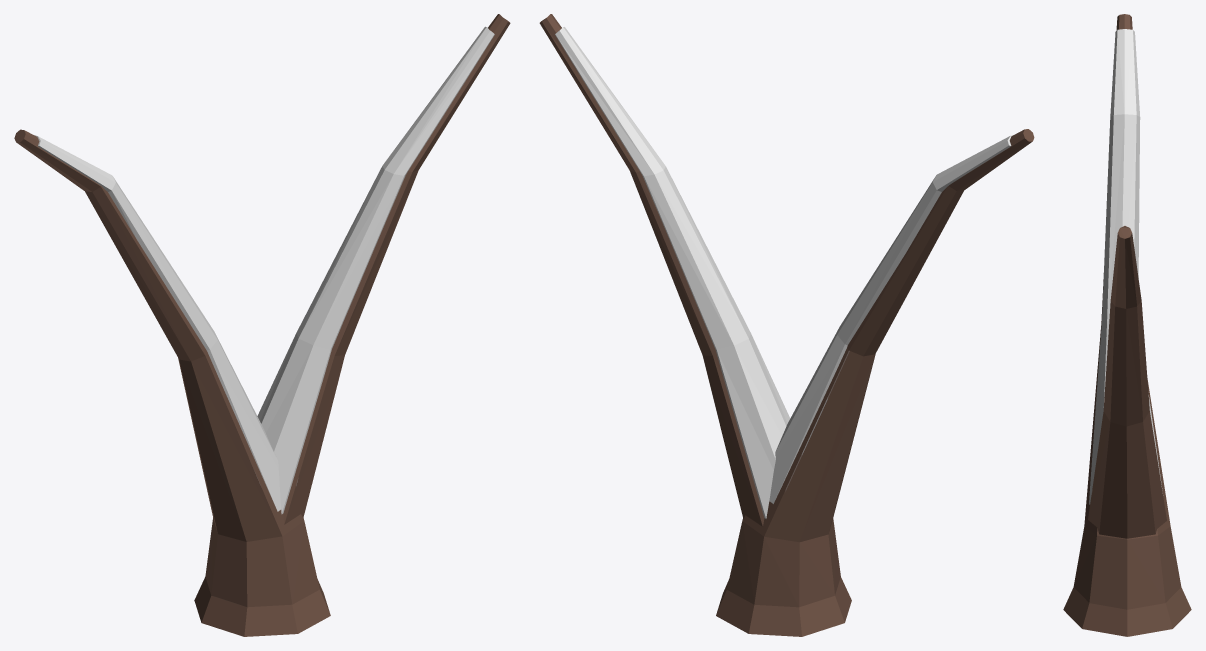
File: split_trunk_deciduous_tree_snow.obj
The picture shows the model from 3 angles, left to right: view 1: azimuth 30°, elevation 25°; view 2: azimuth 150°, elevation 25°; view 3: azimuth 270°, elevation 25°; orthographic projection. The views are drawn at different scales.
Visible parts, largest first — view 1: Split_trunk_deciduous_tree_snow; view 2: Split_trunk_deciduous_tree_snow; view 3: Split_trunk_deciduous_tree_snow.
Boxes of the visible parts, <box> form: Split_trunk_deciduous_tree_snow: <box>14,14,510,636</box>; Split_trunk_deciduous_tree_snow: <box>539,14,1034,636</box>; Split_trunk_deciduous_tree_snow: <box>1063,14,1191,636</box>.
Bounding box in the file's own units: 1.94 × 2.02 × 0.4821.
1 material, 1 textured.
